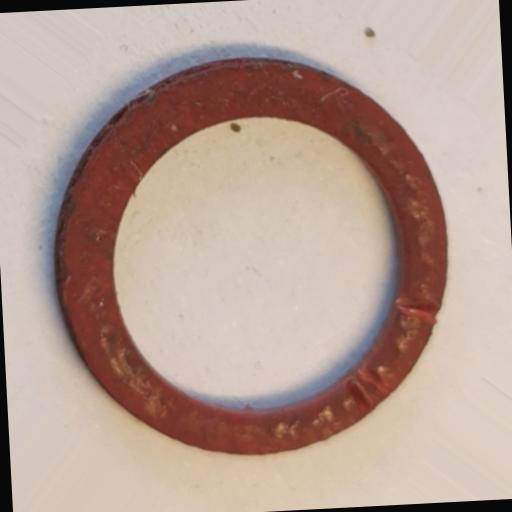defect: (340, 362, 394, 416), (394, 294, 441, 326)
